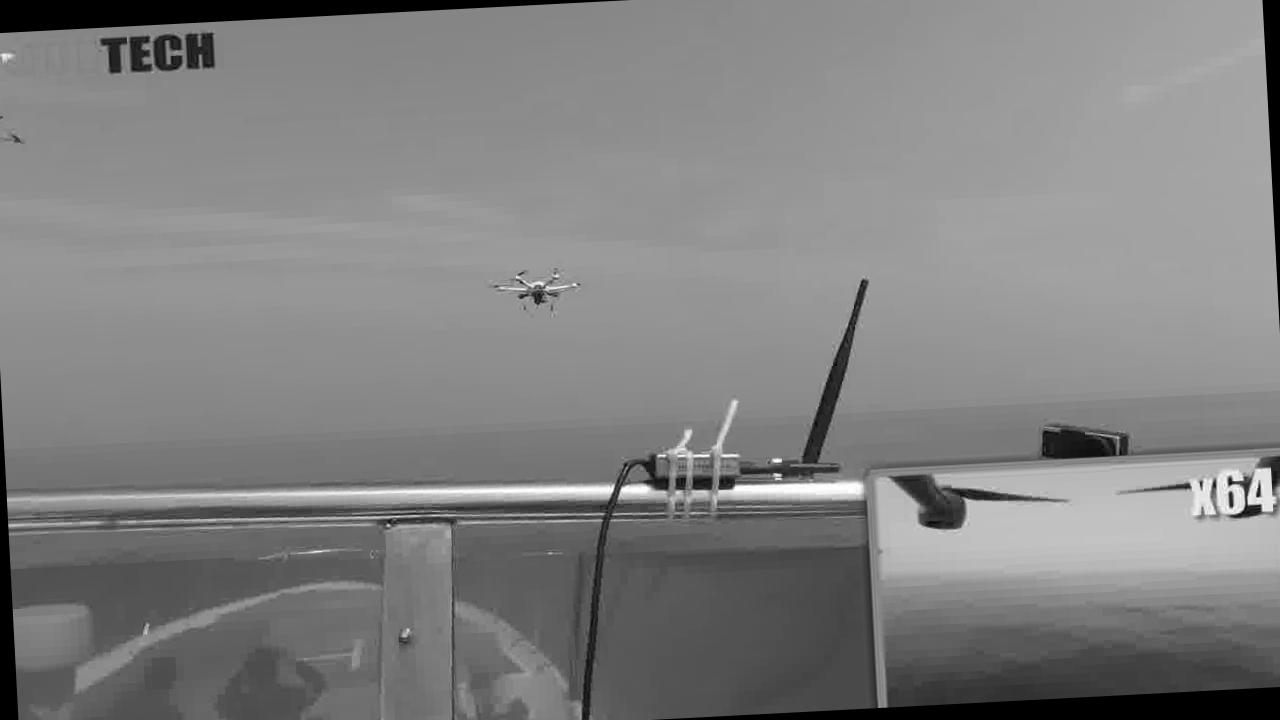drone: (482, 256, 616, 323)
